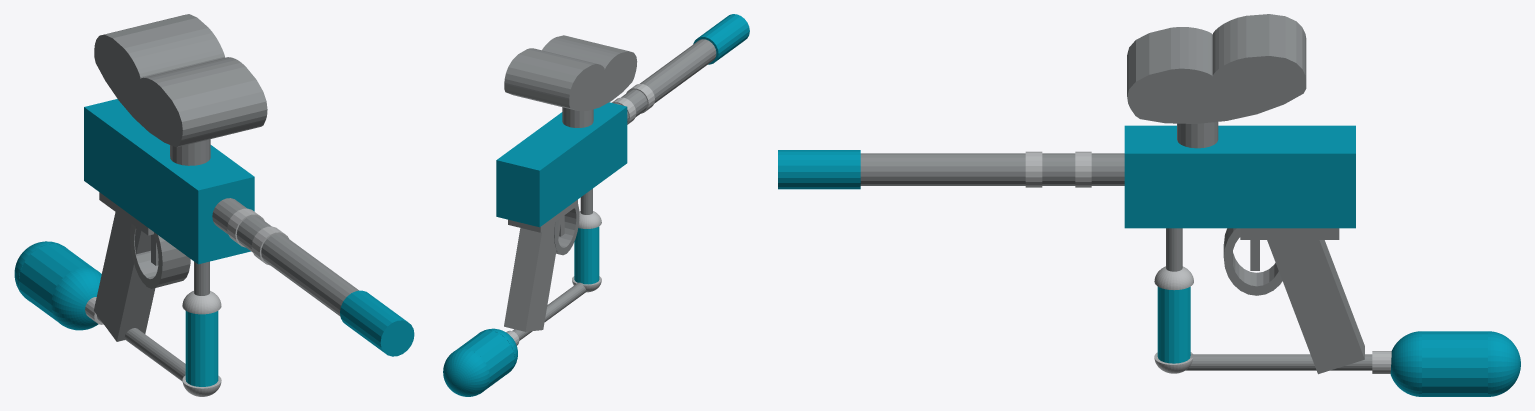
File: paintball_gun.glb
3 views of the same model, side by side, from view 1: azimuth 30°, elevation 25°; view 2: azimuth 150°, elevation 25°; view 3: azimuth 270°, elevation 25° (orthographic). The views are drawn at different scales.
Parts seen in each view (by area): view 1: Mesh_Mesh_head_geo.001_lambert2SG.001; view 2: Mesh_Mesh_head_geo.001_lambert2SG.001; view 3: Mesh_Mesh_head_geo.001_lambert2SG.001.
Boxes of the visible parts, box(x1,y1,x2,y2) form: Mesh_Mesh_head_geo.001_lambert2SG.001: box(14, 14, 414, 396); Mesh_Mesh_head_geo.001_lambert2SG.001: box(443, 14, 749, 396); Mesh_Mesh_head_geo.001_lambert2SG.001: box(778, 14, 1520, 396).
Size of the model in its own units: 6 by 24 by 45.
